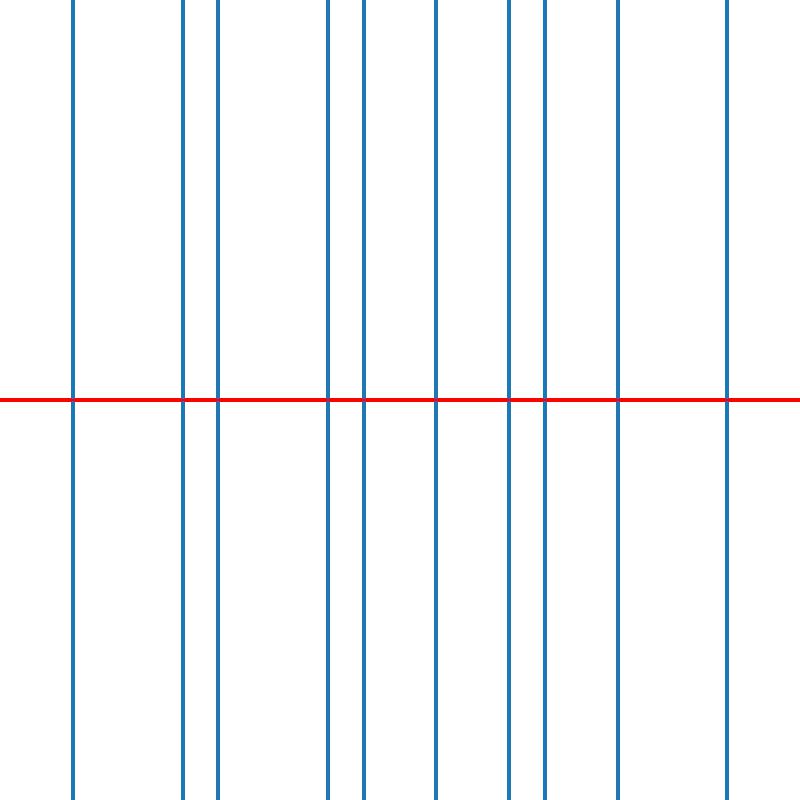root: (432, 396, 440, 404), (541, 396, 549, 404), (69, 396, 76, 404), (360, 396, 367, 404), (178, 396, 185, 404), (323, 396, 330, 404), (214, 396, 221, 404), (614, 396, 621, 404), (723, 396, 730, 404), (505, 396, 512, 404)
